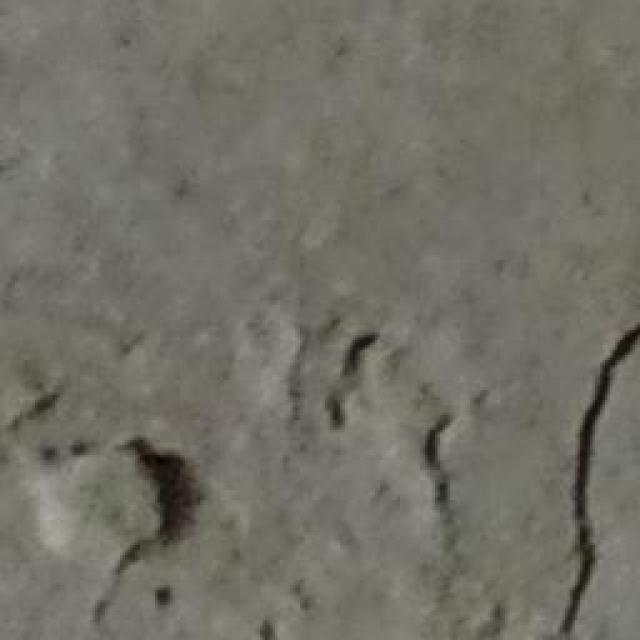Longitudinal: (283, 298, 482, 630), (23, 366, 209, 640), (548, 313, 640, 640)
